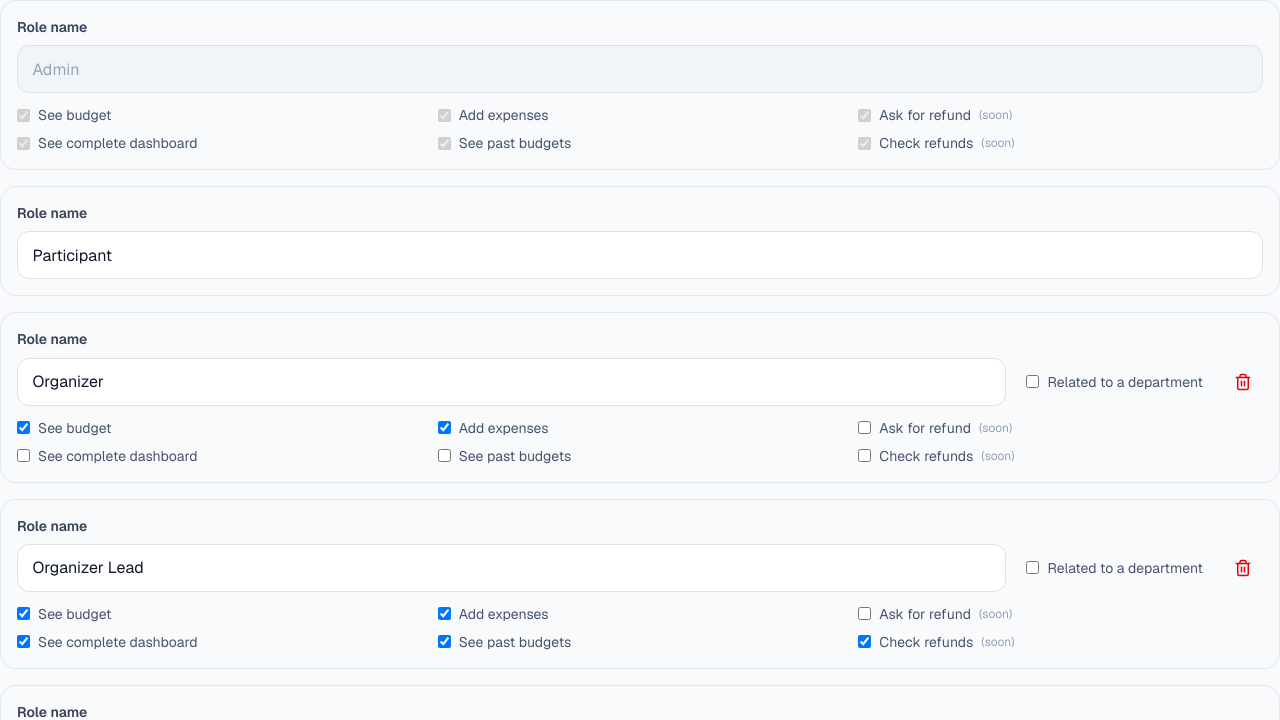
it: RoleSettingsFields › explains department scoping when a role is tied to a department
The width and height of the screenshot is (1280, 720).
Click the checkbox named "role:ORGANIZER:requiresDepartment". click: click(1033, 382)
box: x1=1026 y1=375 x2=1039 y2=388
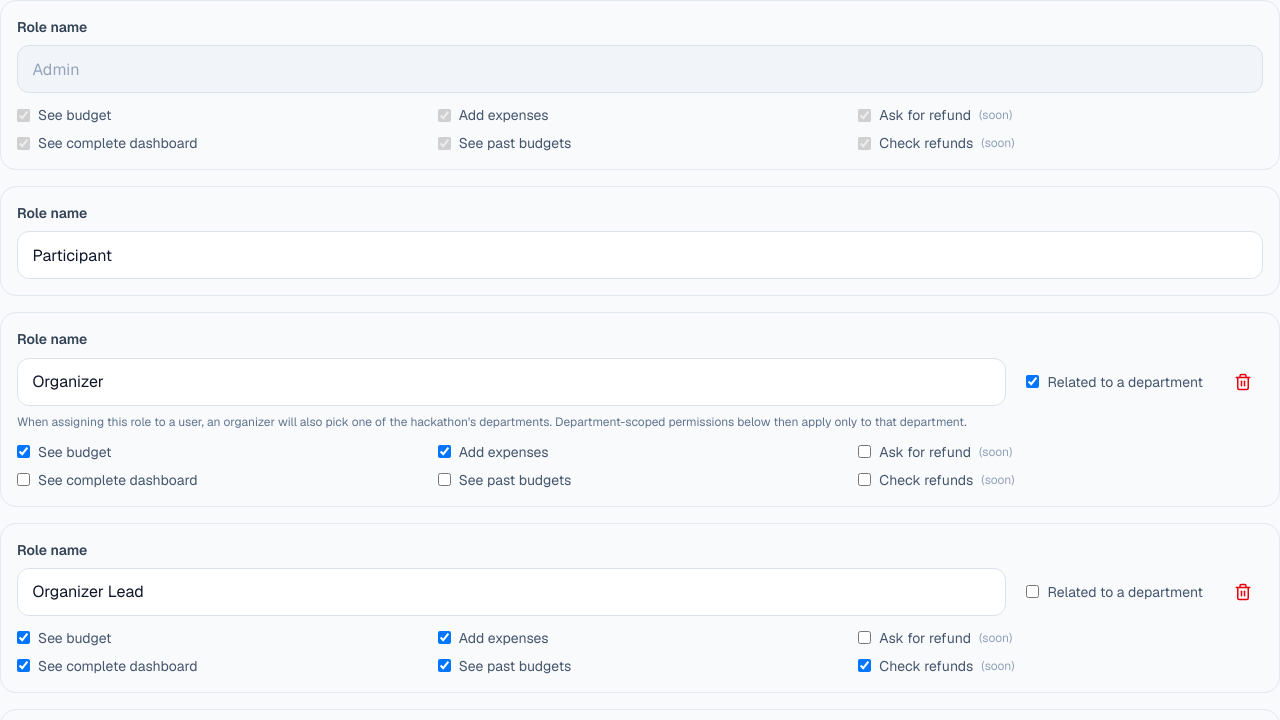
Result: the text "pick one of the hackathon" is shown at x1=17 y1=414 x2=967 y2=430
